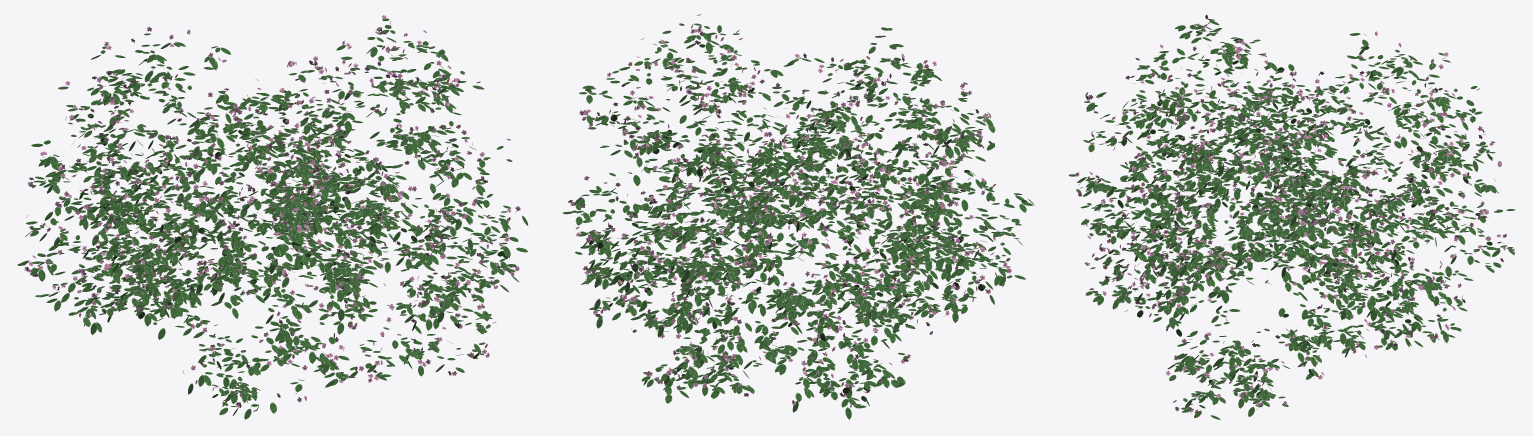
File: MESH_TabebuiaRosea_M_LOD2.fbx
3 views of the same model, side by side, from view 1: azimuth 30°, elevation 25°; view 2: azimuth 150°, elevation 25°; view 3: azimuth 270°, elevation 25° (orthographic). The views are drawn at different scales.
Visible parts, largest first — view 1: MI_LOD2_001, MI_LOD2_002; view 2: MI_LOD2_001, MI_LOD2_002; view 3: MI_LOD2_001, MI_LOD2_002.
Boxes of the visible parts, x1=… form: MI_LOD2_001: x1=17, y1=18, x2=528, y2=419; MI_LOD2_002: x1=24, y1=15, x2=520, y2=411; MI_LOD2_001: x1=562, y1=23, x2=1034, y2=419; MI_LOD2_002: x1=568, y1=14, x2=1016, y2=407; MI_LOD2_001: x1=1068, y1=19, x2=1515, y2=419; MI_LOD2_002: x1=1075, y1=14, x2=1514, y2=413.
Size of what is drawn, in the model's own units: 730 by 542 by 727.
